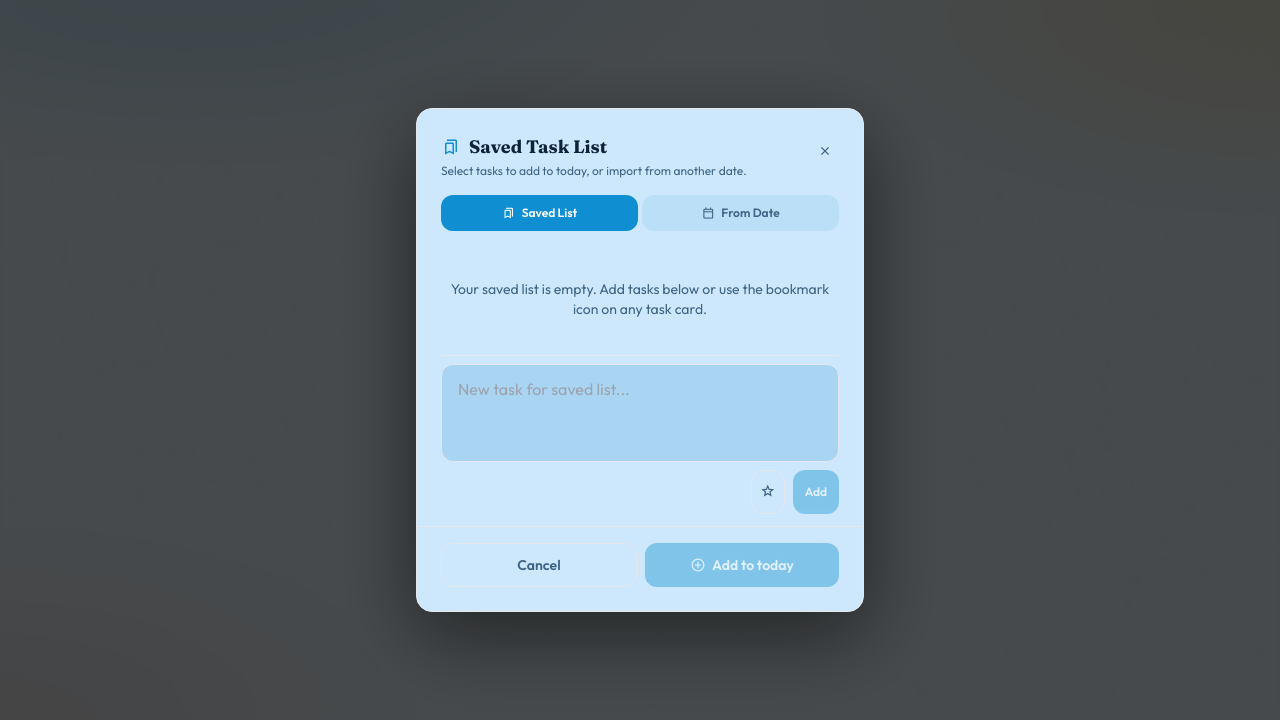
Test: date tab › shows tasks from the chosen date
This screenshot has width=1280, height=720.
Click the button "From Date" at (740, 213), box [642, 195, 839, 231]
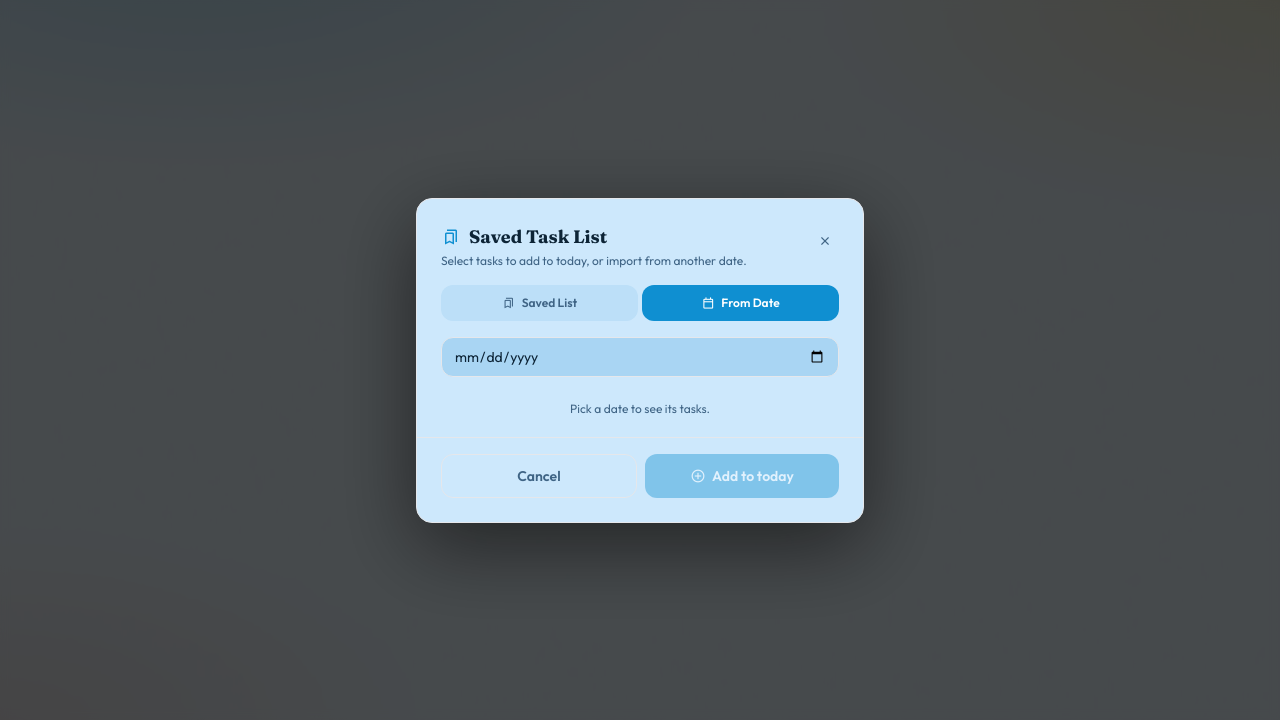
Type "2025-06-10" into the date field at (640, 356), box [441, 336, 839, 376]
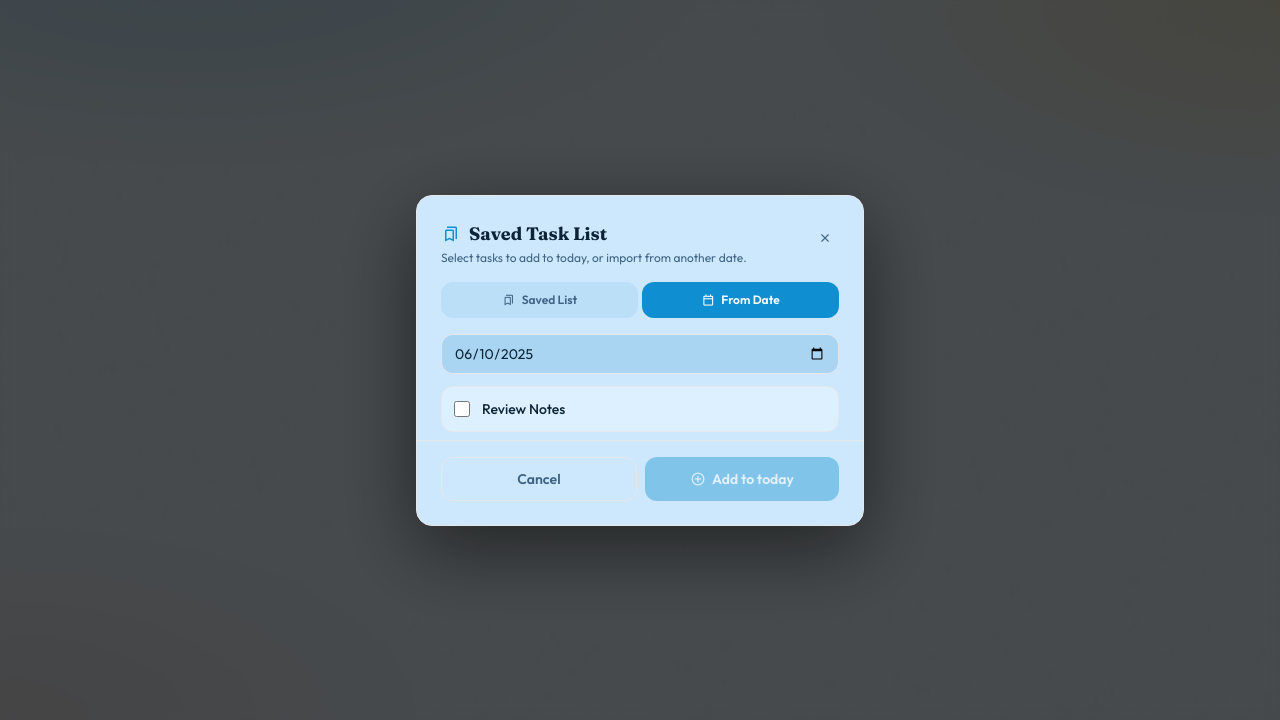
Result: the text "Review Notes" is shown at [482, 400, 565, 418]
